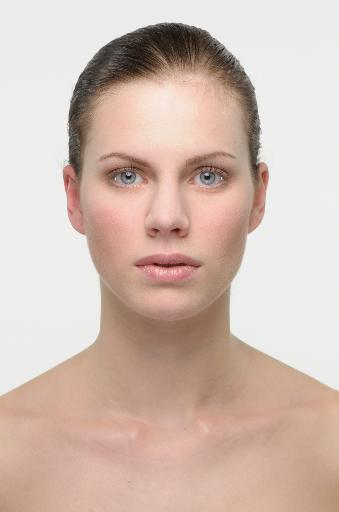left_eye: (187, 167, 229, 189)
left_lip_corner: (196, 261, 204, 271)
right_eye: (107, 168, 151, 188)
right_lip_corner: (133, 262, 141, 270)
